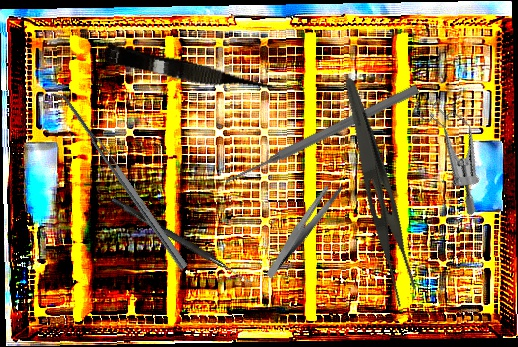Dressing Forceps: (320, 77, 430, 309), (246, 178, 360, 280)
Hook Surgical: (109, 197, 255, 285)
Micro Scissor: (101, 43, 287, 104)
Pusher: (222, 82, 421, 188)
Spatula Surgical: (49, 86, 188, 276)
Speculum: (381, 85, 518, 217)
